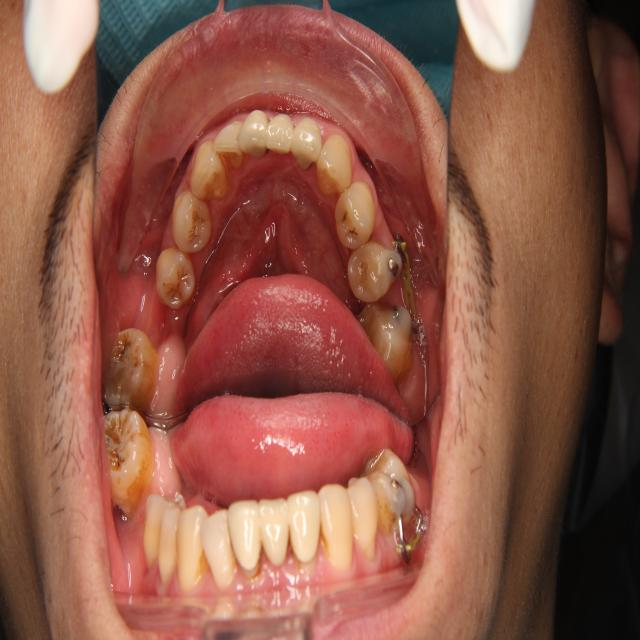tooth: (353, 287, 420, 387), (101, 321, 163, 414), (342, 233, 406, 310), (325, 167, 378, 256), (311, 123, 362, 210), (150, 235, 200, 312), (182, 132, 231, 209), (166, 187, 216, 258), (284, 110, 328, 184), (208, 108, 253, 180), (234, 97, 272, 170), (261, 106, 298, 169)
